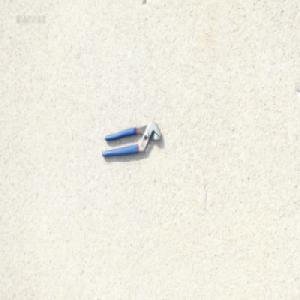Pliers: (101, 120, 162, 159)
